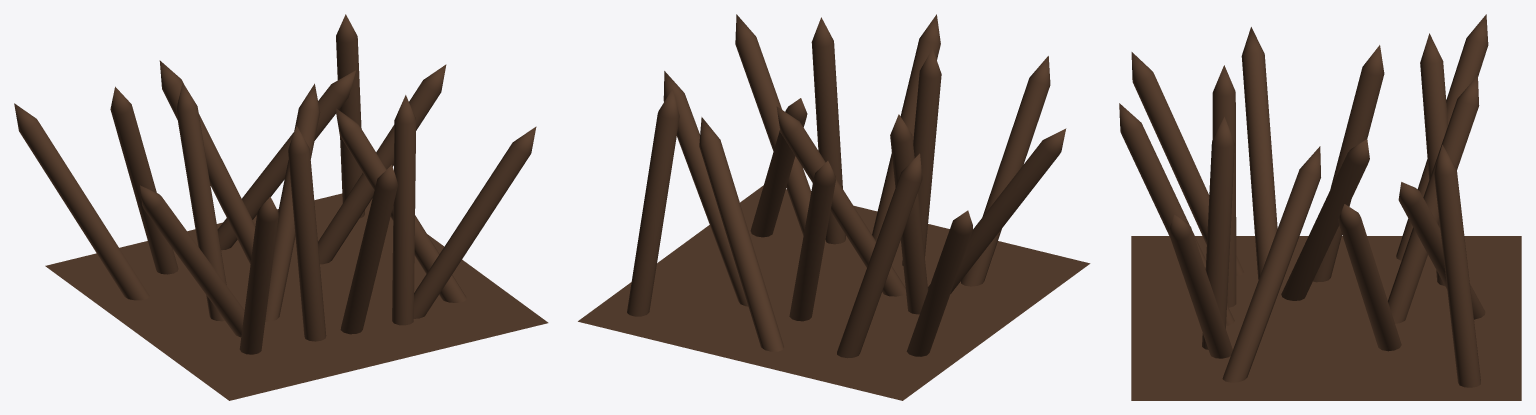
File: Spikes3.fbx
3 renders of one model, left to right at view 1: azimuth 30°, elevation 25°; view 2: azimuth 150°, elevation 25°; view 3: azimuth 270°, elevation 25°, orthographic. The views are drawn at different scales.
Visible parts, largest first — view 1: Spikes3; view 2: Spikes3; view 3: Spikes3.
Boxes of the visible parts, left/top/right/bottom form: Spikes3: left=14, top=14, right=548, bottom=400; Spikes3: left=578, top=14, right=1090, bottom=400; Spikes3: left=1119, top=14, right=1521, bottom=400.
Size of the model in its own units: 293 by 178 by 258.
